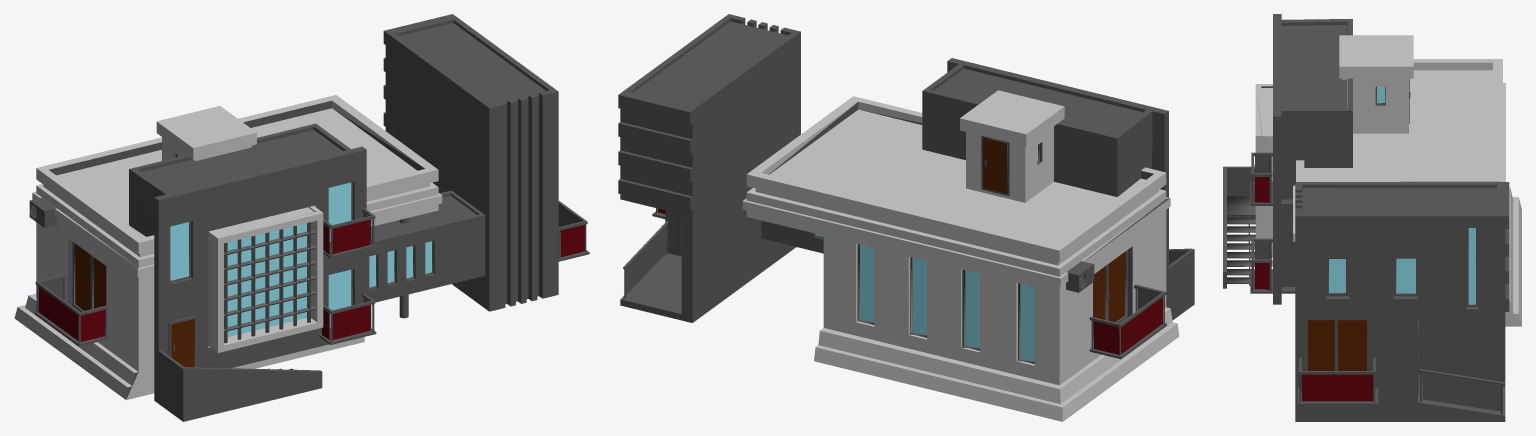
3 renders of one model, left to right at view 1: azimuth 30°, elevation 25°; view 2: azimuth 150°, elevation 25°; view 3: azimuth 270°, elevation 25°, orthographic. The views are drawn at different scales.
Parts seen in each view (by area): view 1: stena, stena.001, stena.002, stena.004, stena.003; view 2: stena.001, stena, stena.002, stena.003, stena.004; view 3: stena, stena.001, stena.003, stena.004, stena.002.
Part boxes in pixels (x1,y1,x2,y2): stena: [29, 14, 589, 421]; stena.001: [14, 95, 442, 399]; stena.002: [170, 155, 431, 336]; stena.004: [38, 220, 584, 341]; stena.003: [75, 244, 194, 367]; stena.001: [742, 90, 1179, 421]; stena: [618, 14, 1194, 364]; stena.002: [816, 145, 1037, 361]; stena.003: [983, 138, 1124, 337]; stena.004: [658, 208, 1162, 354]; stena: [1223, 14, 1509, 421]; stena.001: [1255, 35, 1521, 326]; stena.003: [1308, 320, 1366, 370]; stena.004: [1254, 177, 1372, 401]; stena.002: [1329, 86, 1475, 304].
Size of the model in its own units: 1742 by 754 by 925.
